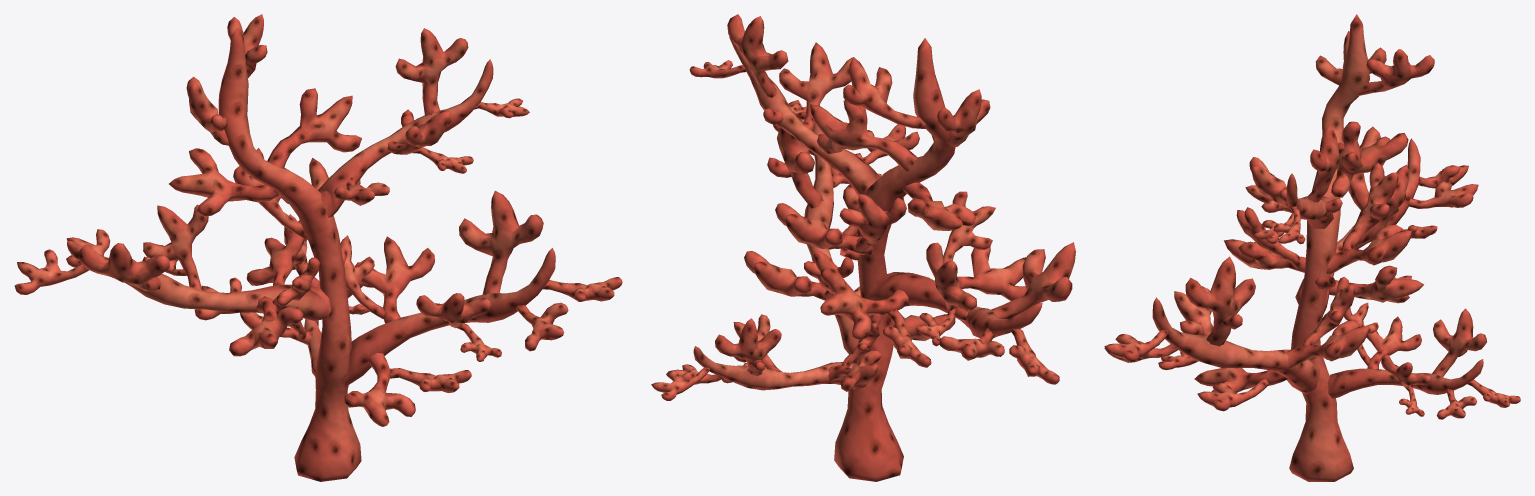
File: Cartoon Seaweed_10_1.FBX
3 renders of one model, left to right at view 1: azimuth 30°, elevation 25°; view 2: azimuth 150°, elevation 25°; view 3: azimuth 270°, elevation 25°, orthographic. The views are drawn at different scales.
Parts seen in each view (by area): view 1: Cartoon Seaweed 10.1; view 2: Cartoon Seaweed 10.1; view 3: Cartoon Seaweed 10.1.
Part boxes in pixels (left/top/right/bottom): Cartoon Seaweed 10.1: left=14, top=14, right=622, bottom=481; Cartoon Seaweed 10.1: left=651, top=14, right=1075, bottom=481; Cartoon Seaweed 10.1: left=1104, top=14, right=1520, bottom=481.
Size of the model in its own units: 27.73 by 27.12 by 23.82.
